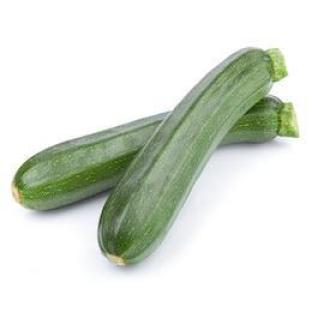Zucchini: (99, 48, 285, 265), (12, 113, 169, 209)
